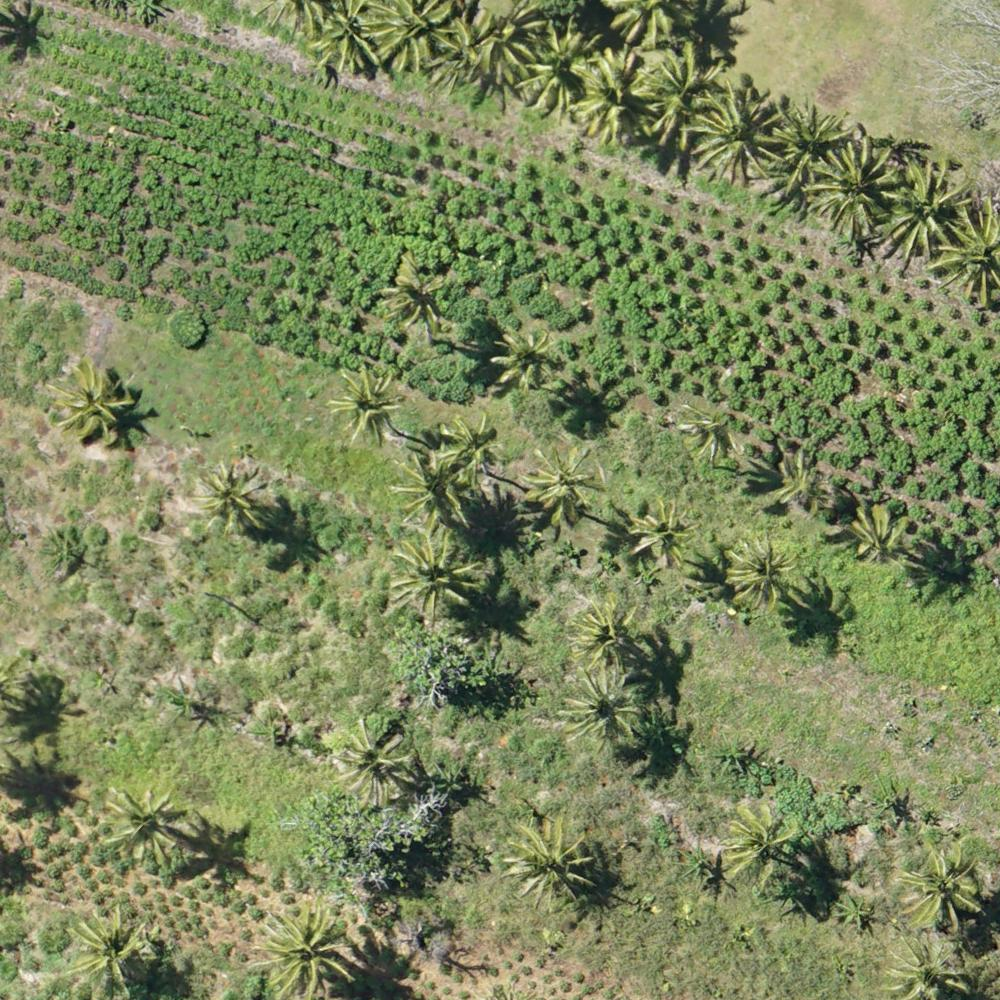Palm: (246, 904, 359, 996), (871, 159, 968, 256), (690, 79, 780, 177), (640, 43, 728, 143), (500, 816, 595, 907), (524, 16, 605, 117), (899, 846, 992, 932), (808, 142, 891, 235), (388, 529, 476, 615), (49, 357, 134, 443), (331, 721, 416, 806), (719, 800, 803, 886), (765, 101, 847, 189), (64, 907, 149, 990), (578, 48, 654, 140), (355, 2, 440, 84), (522, 439, 601, 526), (559, 662, 637, 750), (99, 786, 183, 867), (390, 450, 468, 533), (939, 196, 1000, 300), (303, 1, 385, 78), (196, 458, 274, 536), (425, 14, 496, 99), (473, 4, 545, 86), (332, 359, 399, 444), (884, 934, 970, 1000), (569, 601, 642, 669), (376, 262, 450, 329), (720, 543, 793, 609), (623, 501, 687, 574), (849, 500, 918, 566), (433, 415, 497, 486), (493, 326, 561, 385), (673, 404, 737, 463), (776, 452, 831, 510)
